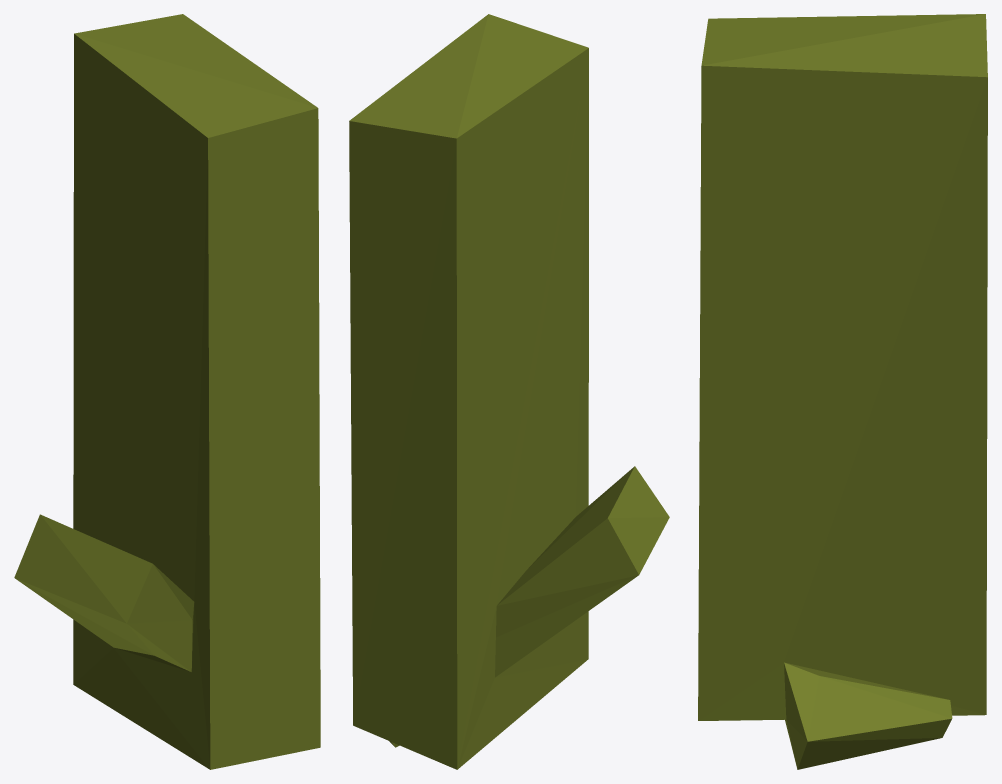
3 views of the same model, side by side, from view 1: azimuth 30°, elevation 25°; view 2: azimuth 150°, elevation 25°; view 3: azimuth 270°, elevation 25° (orthographic). The views are drawn at different scales.
Parts seen in each view (by area): view 1: 310_Cube.1268; view 2: 310_Cube.1268; view 3: 310_Cube.1268.
Part boxes in pixels (bbox=[...]): 310_Cube.1268: bbox=[14, 14, 320, 769]; 310_Cube.1268: bbox=[349, 14, 669, 769]; 310_Cube.1268: bbox=[698, 14, 987, 769].
Size of the model in its own units: 5.63 by 12.98 by 4.91.
